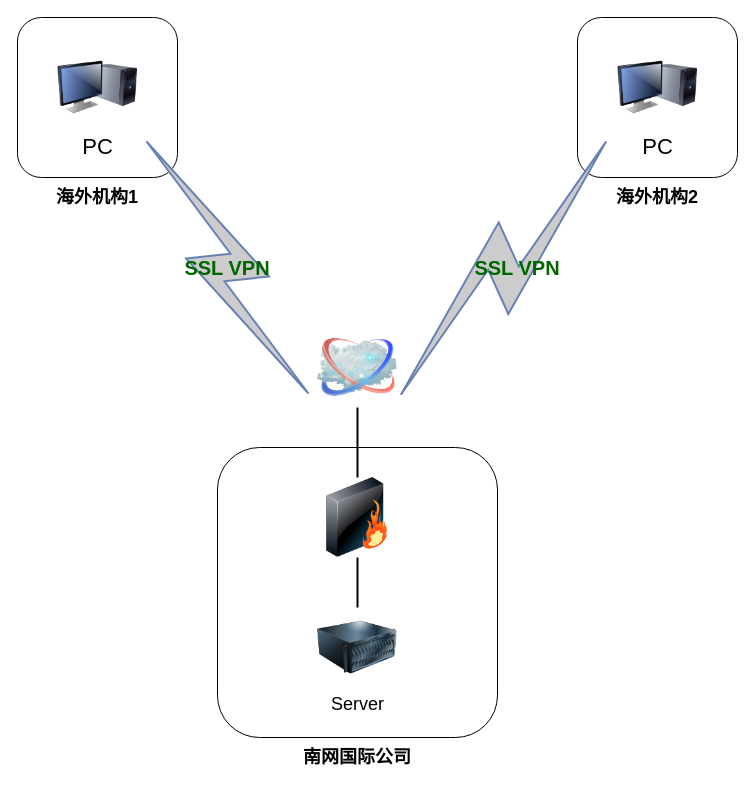
This 755x786 diagram has some shape labels left out. The shapes that lost their labels are listed below. From the top down, each one's box as (x1, y1, x2, y2) in pixels, then its label:
(317, 327, 397, 407): Internet
(317, 477, 397, 557): Firewall
